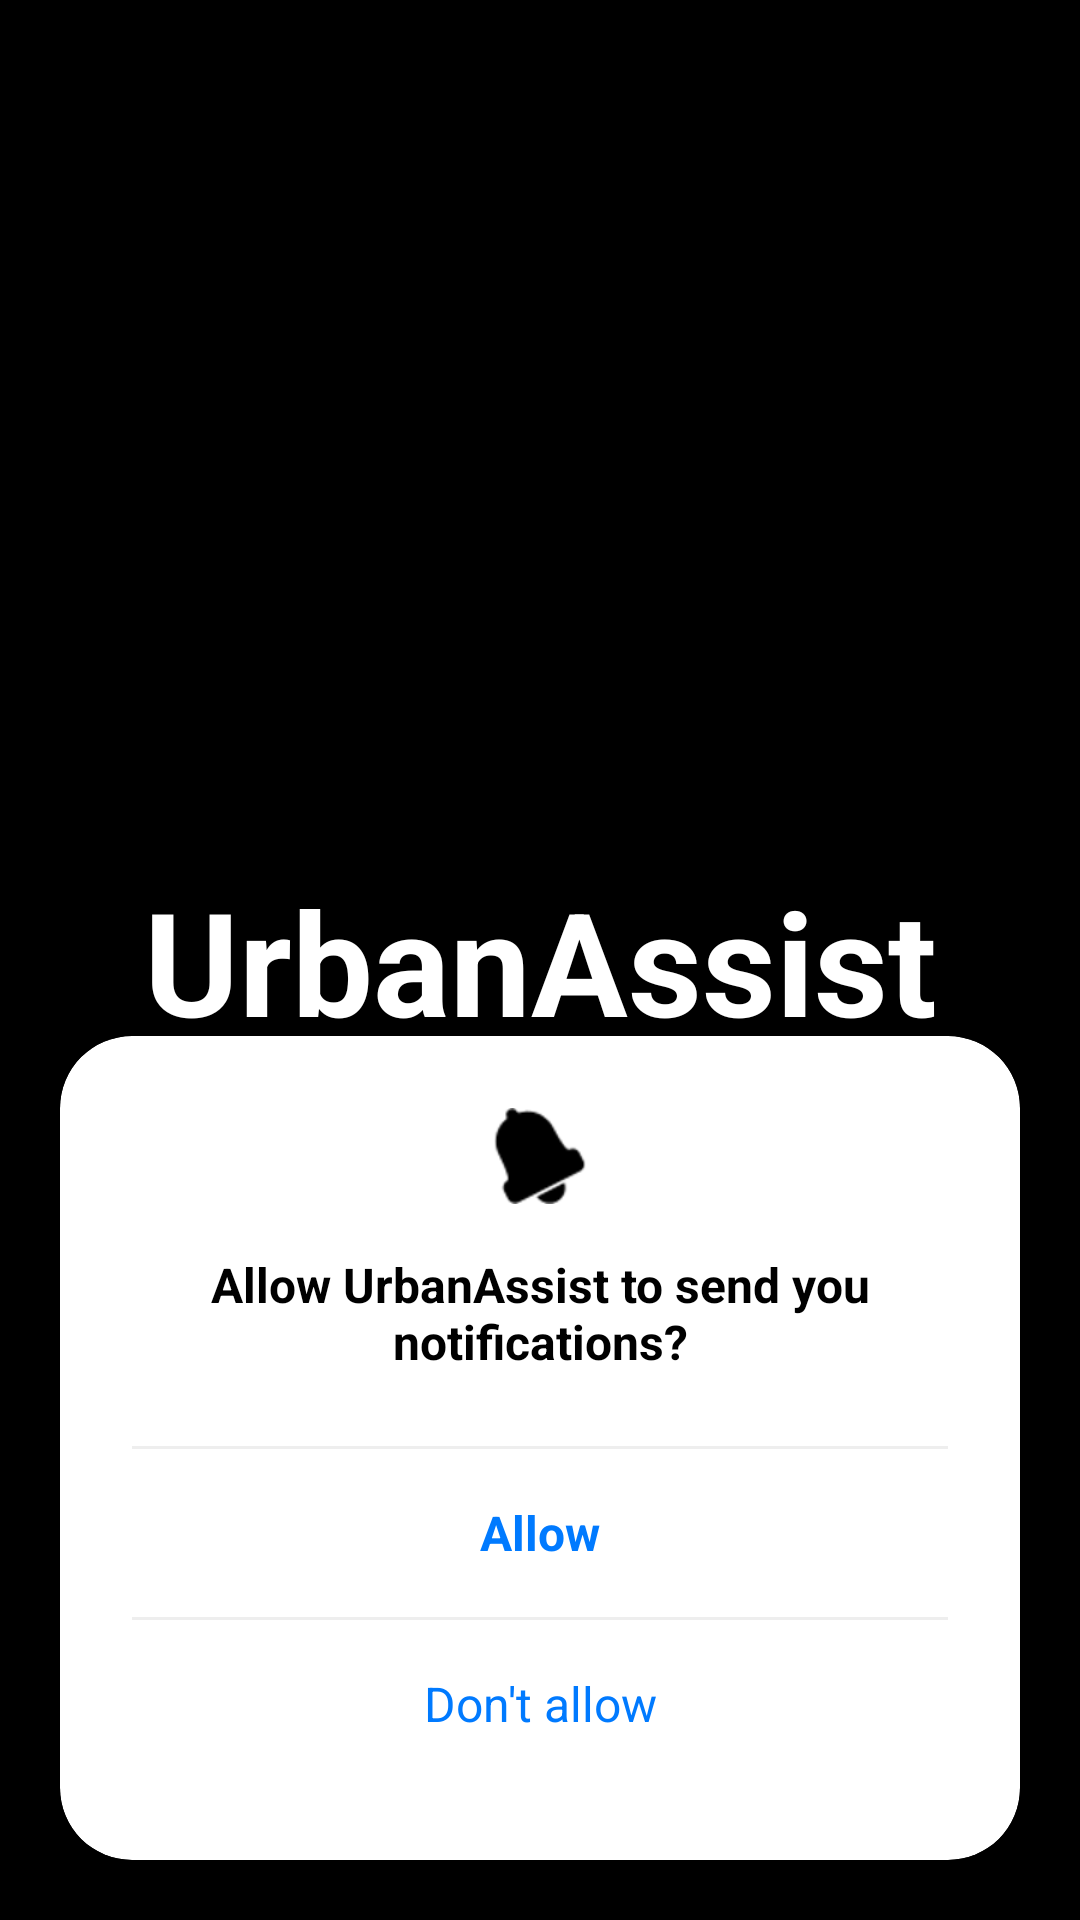

Where icons sit on this 1080px x 1920px app screen, as bbox=[x1, y1, x2, y2]:
Bell Icon: bbox=[495, 1108, 585, 1204]
